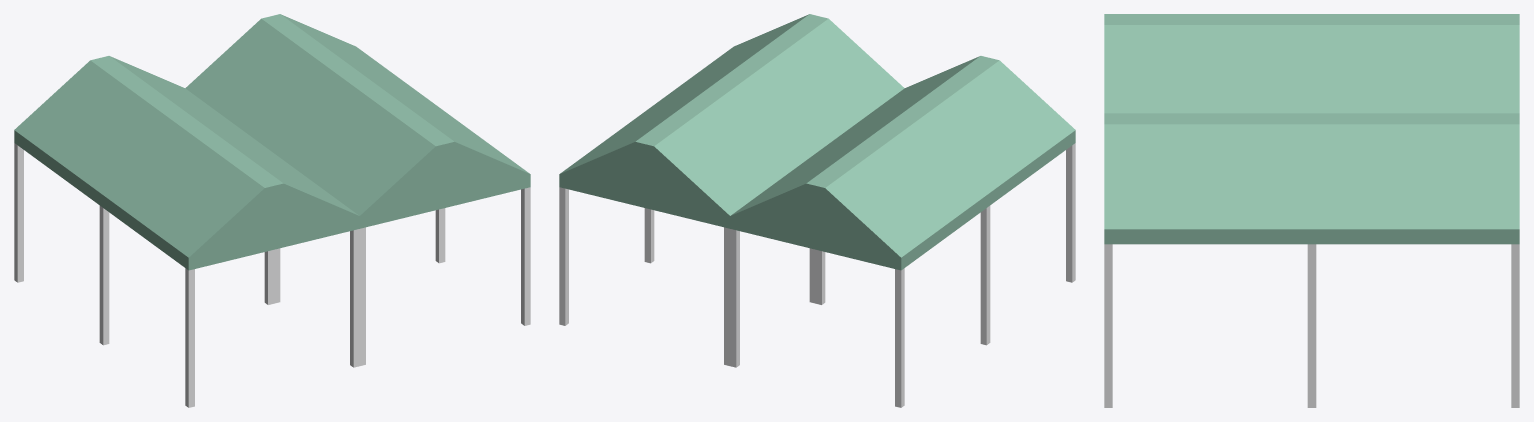
Rendered from tentRoofDouble.glb.
The picture shows the model from 3 angles, left to right: view 1: azimuth 30°, elevation 25°; view 2: azimuth 150°, elevation 25°; view 3: azimuth 270°, elevation 25°; orthographic projection. The views are drawn at different scales.
Visible parts, largest first — view 1: tentRoofDouble(Clone); view 2: tentRoofDouble(Clone); view 3: tentRoofDouble(Clone).
Part boxes in pixels (bbox=[...]): tentRoofDouble(Clone): bbox=[14, 14, 530, 407]; tentRoofDouble(Clone): bbox=[559, 14, 1075, 407]; tentRoofDouble(Clone): bbox=[1104, 14, 1519, 407].
Bounding box in the file's own units: 1.12 × 0.63 × 0.99.
